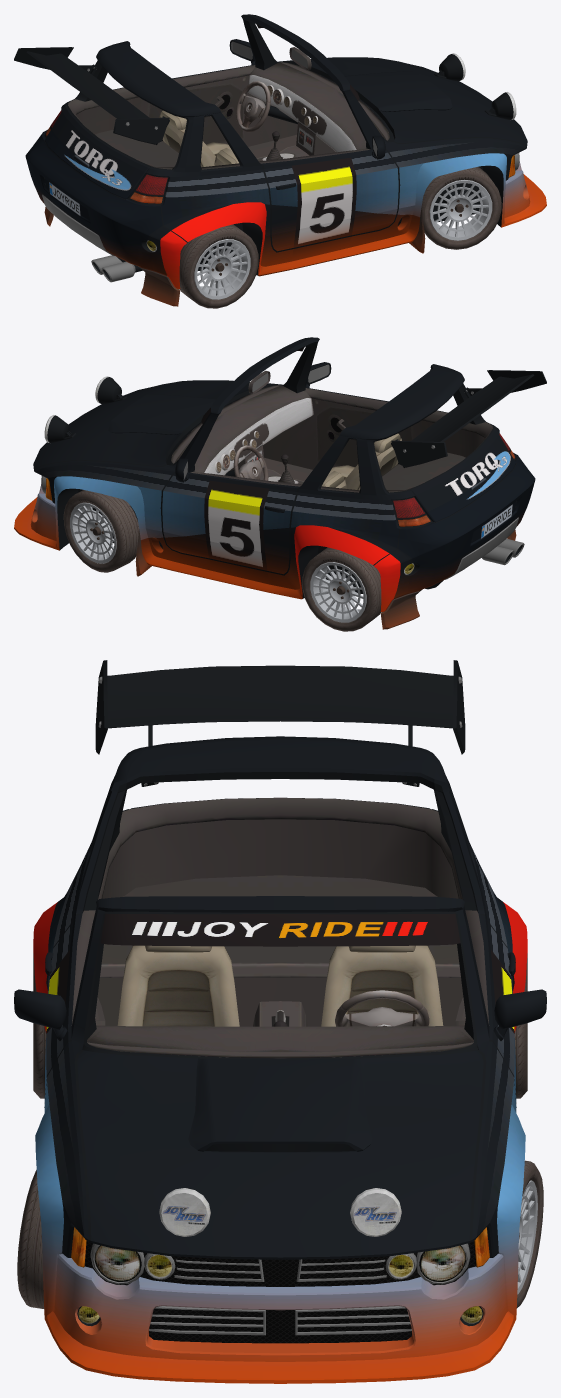
The model's file is Car.glb.
The picture shows the model from 3 angles, top to bottom: view 1: azimuth 30°, elevation 25°; view 2: azimuth 150°, elevation 25°; view 3: azimuth 270°, elevation 25°; orthographic projection. The views are drawn at different scales.
Visible parts, largest first — view 1: node_id2451, node_id2441, node_id2453, node_id2387, node_id2473, node_id2480, node_id2484, node_id2393, node_id2475, node_id2477, node_id2482, node_id2396 (+7 smaller); view 2: node_id2451, node_id2441, node_id2453, node_id2387, node_id2487, node_id2494, node_id2498, node_id2491, node_id2393, node_id2489, node_id2382, node_id2496 (+7 smaller); view 3: node_id2451, node_id2441, node_id2387, node_id2393, node_id2453, node_id2457, node_id2421, node_id2384, node_id2415, node_id2408, node_id2477, node_id2396 (+7 smaller).
Part boxes in pixels (x1,y1,x2,y2): node_id2451: [25, 14, 546, 306]; node_id2441: [68, 62, 389, 169]; node_id2453: [44, 18, 526, 275]; node_id2387: [14, 47, 169, 144]; node_id2473: [429, 179, 492, 240]; node_id2480: [194, 239, 250, 299]; node_id2484: [179, 224, 258, 308]; node_id2393: [159, 110, 238, 167]; node_id2475: [424, 175, 498, 246]; node_id2477: [421, 167, 501, 249]; node_id2482: [190, 234, 256, 305]; node_id2396: [236, 81, 270, 132]; node_id2451: [14, 337, 535, 629]; node_id2441: [171, 385, 492, 492]; node_id2453: [34, 341, 516, 598]; node_id2387: [391, 370, 546, 467]; node_id2487: [310, 562, 366, 622]; node_id2494: [70, 502, 116, 563]; node_id2498: [63, 490, 139, 572]; node_id2491: [302, 547, 381, 631]; node_id2393: [322, 433, 401, 490]; node_id2489: [304, 557, 370, 628]; node_id2382: [47, 377, 127, 443]; node_id2496: [64, 498, 119, 569]; node_id2451: [33, 736, 527, 1383]; node_id2441: [71, 797, 489, 1058]; node_id2387: [95, 660, 465, 786]; node_id2393: [117, 945, 443, 1026]; node_id2453: [44, 772, 516, 1326]; node_id2457: [84, 1241, 476, 1343]; node_id2421: [149, 1259, 411, 1335]; node_id2384: [159, 1188, 401, 1236]; node_id2415: [14, 989, 546, 1040]; node_id2408: [94, 1245, 466, 1282]; node_id2477: [17, 1170, 44, 1308]; node_id2396: [335, 990, 429, 1026].
Bounding box in the file's own units: 0.8963 × 0.3761 × 0.512.
52 materials, 52 textured.
